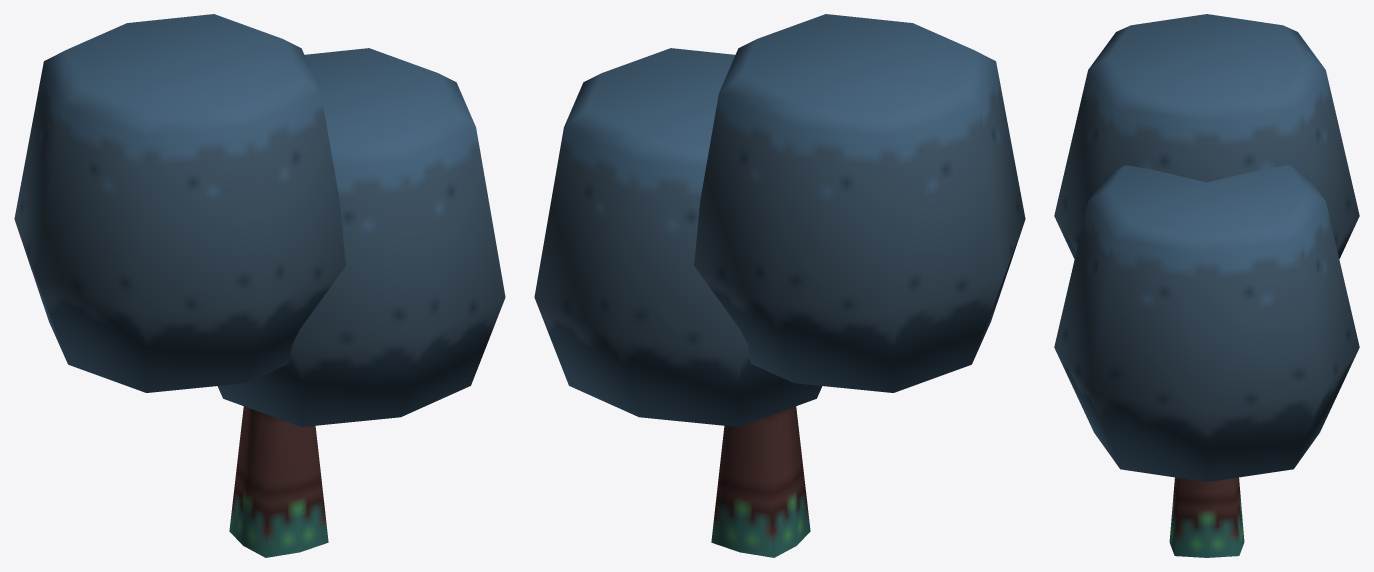
Rendered from tree_2.fbx.
3 renders of one model, left to right at view 1: azimuth 30°, elevation 25°; view 2: azimuth 150°, elevation 25°; view 3: azimuth 270°, elevation 25°, orthographic. The views are drawn at different scales.
Visible parts, largest first — view 1: tree_2; view 2: tree_2; view 3: tree_2.
Part boxes in pixels (left/top/right/bottom): tree_2: left=14, top=14, right=505, bottom=557; tree_2: left=534, top=14, right=1025, bottom=557; tree_2: left=1054, top=14, right=1359, bottom=557.
Size of the model in its own units: 1424 by 1510 by 944.
1 material, 1 textured.
